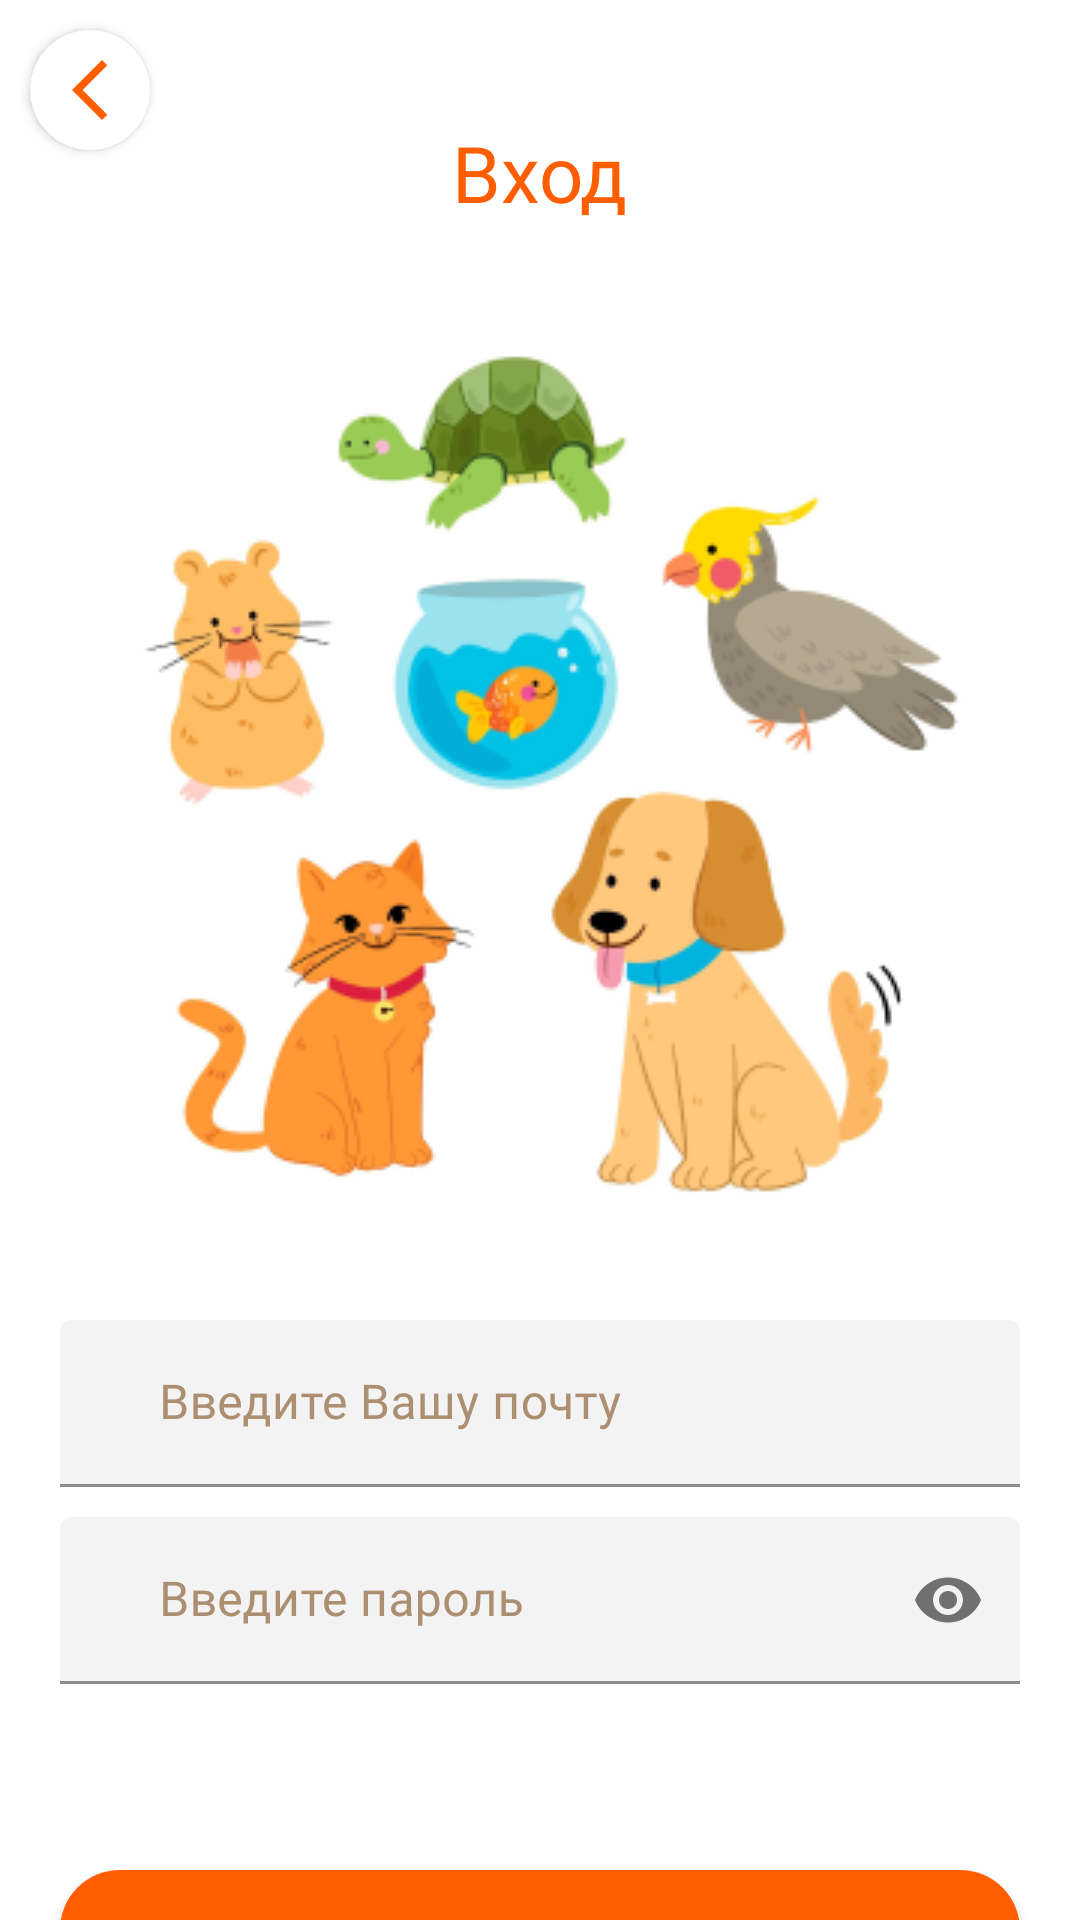

Point at icon controls on the screen. Image size 1080×1920, points as point (x, y).
back: point (89, 90)
